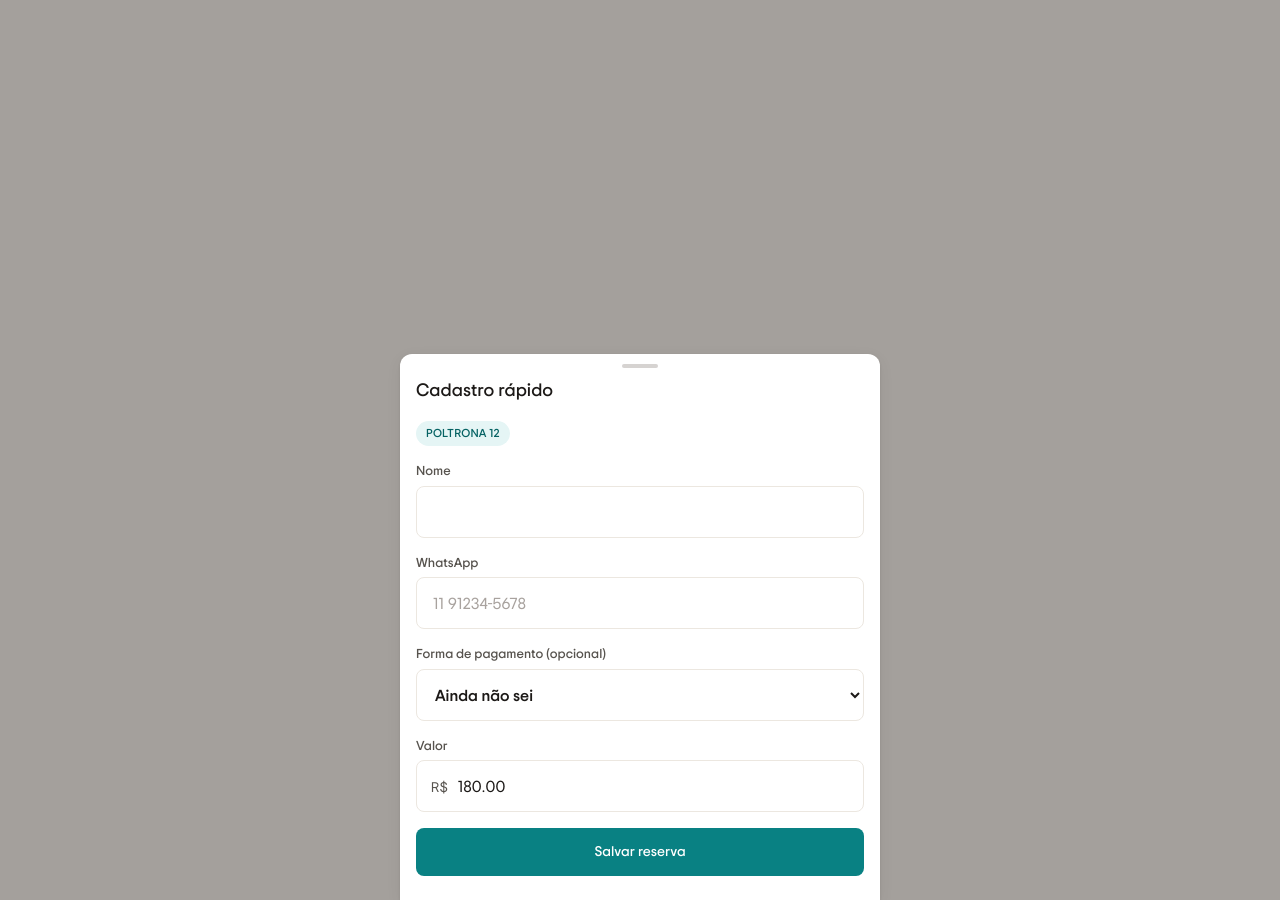
CadastroRapidoSheet › reaproveita passageiro já cadastrado ao sair do campo WhatsApp
Type "11999998888" into the field labelled "WhatsApp" at coordinates (640, 603), box x1=431 y1=591 x2=849 y2=615
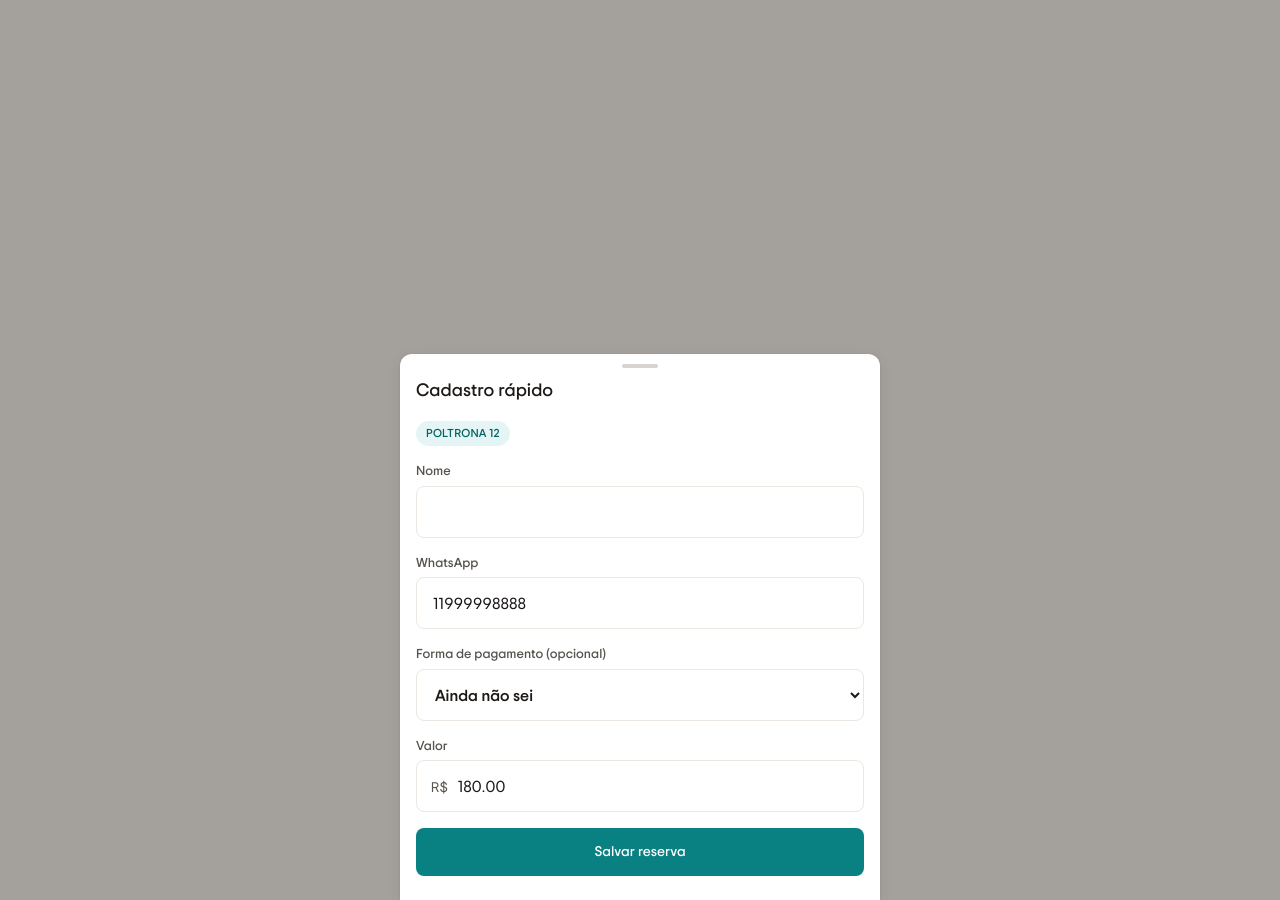
Leave the field labelled "WhatsApp", box x1=431 y1=591 x2=849 y2=615
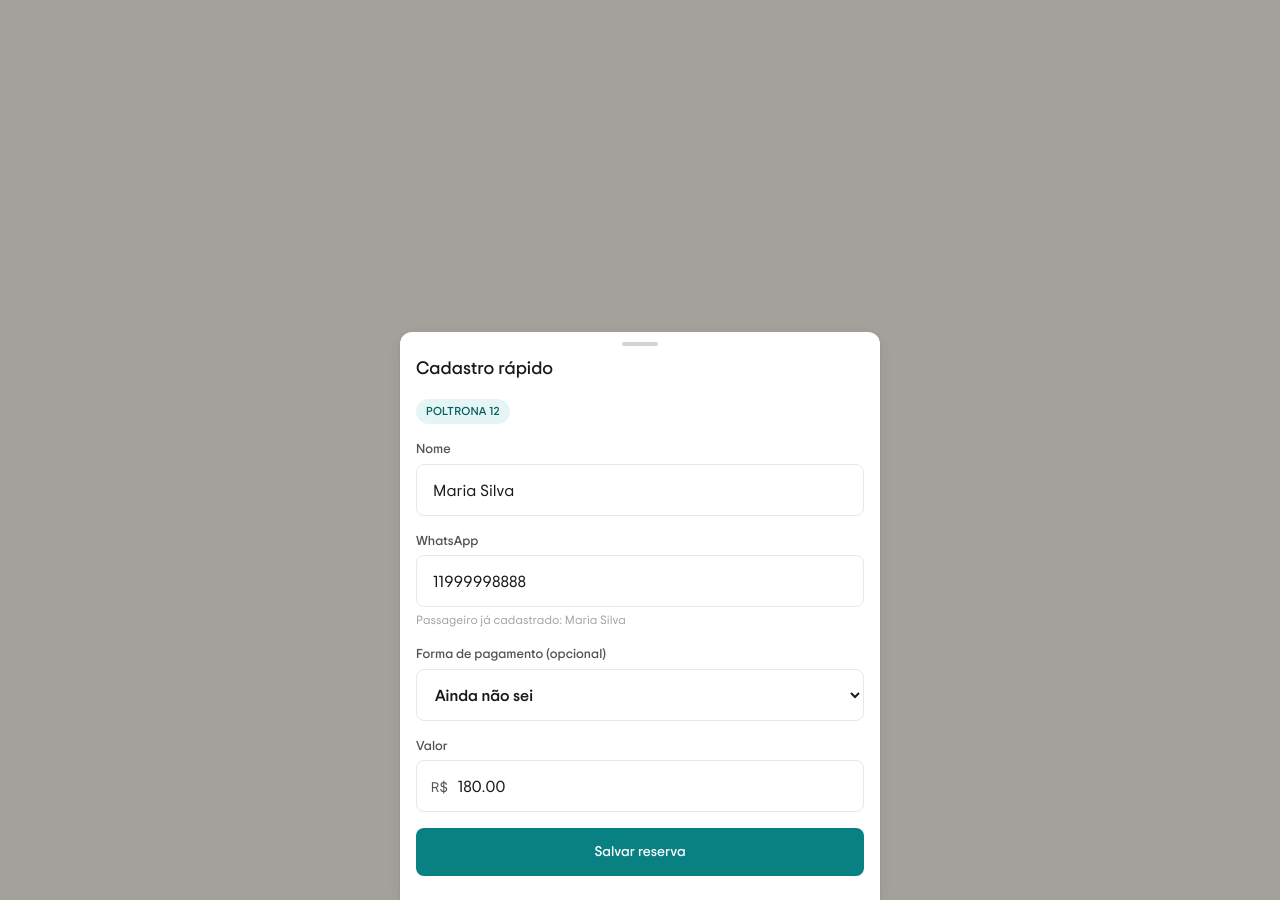
expect the text "Passageiro já cadastrado: Maria Silva" is shown: met, box x1=416 y1=611 x2=626 y2=628
expect the field labelled "Nome" holds "Maria Silva": met, box x1=431 y1=478 x2=849 y2=502
